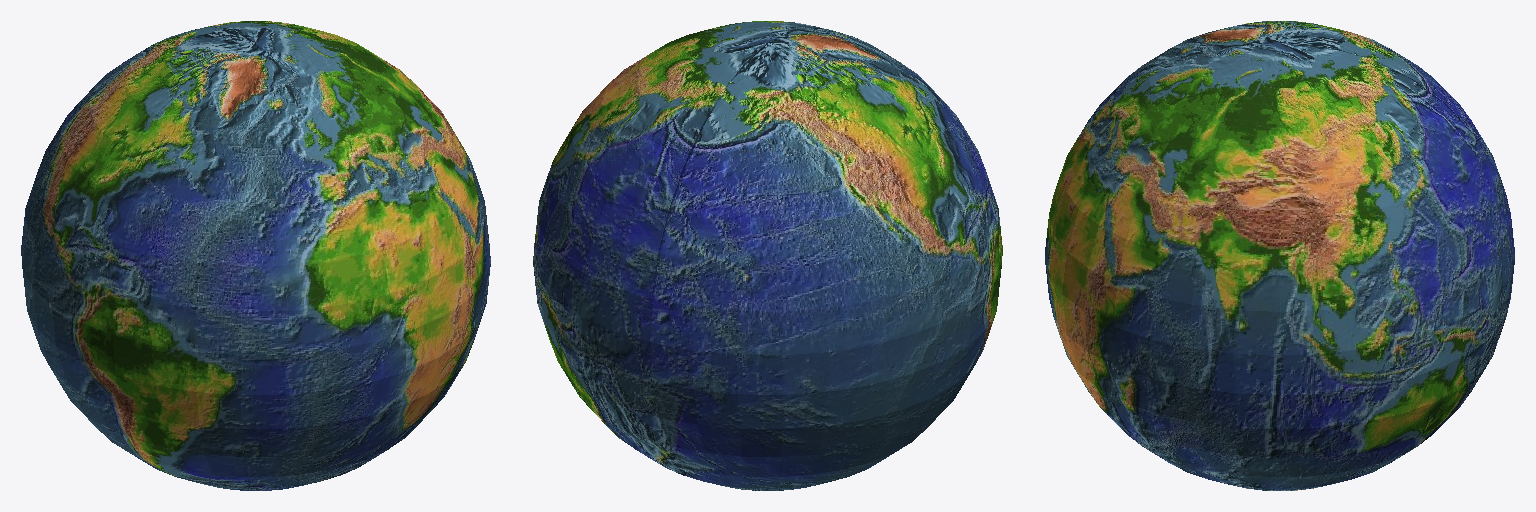
The picture shows the model from 3 angles: view 1: azimuth 30°, elevation 25°; view 2: azimuth 150°, elevation 25°; view 3: azimuth 270°, elevation 25°; orthographic projection.
Visible parts, largest first — view 1: Sphere001; view 2: Sphere001; view 3: Sphere001.
Part boxes in pixels (x1,y1,x2,y2): Sphere001: (21, 21, 490, 490); Sphere001: (533, 21, 1002, 490); Sphere001: (1045, 21, 1514, 490).
Size of the model in its own units: 2 by 2 by 2.
1 materials, 1 textured.